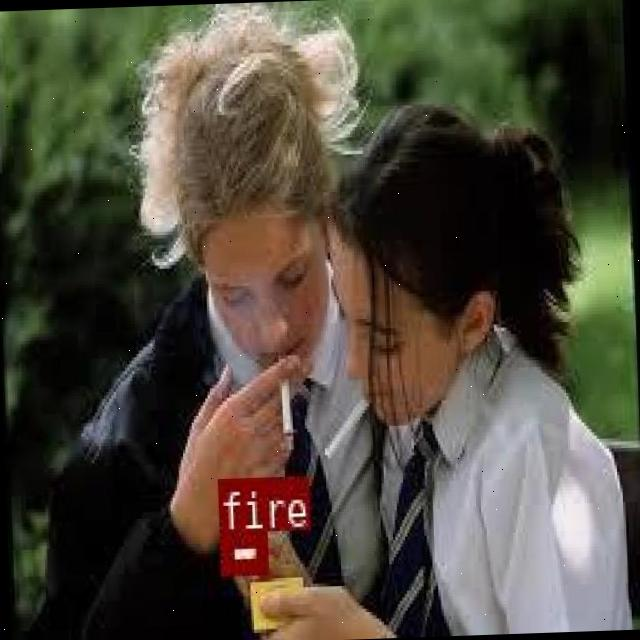fire: (218, 528, 264, 571)
